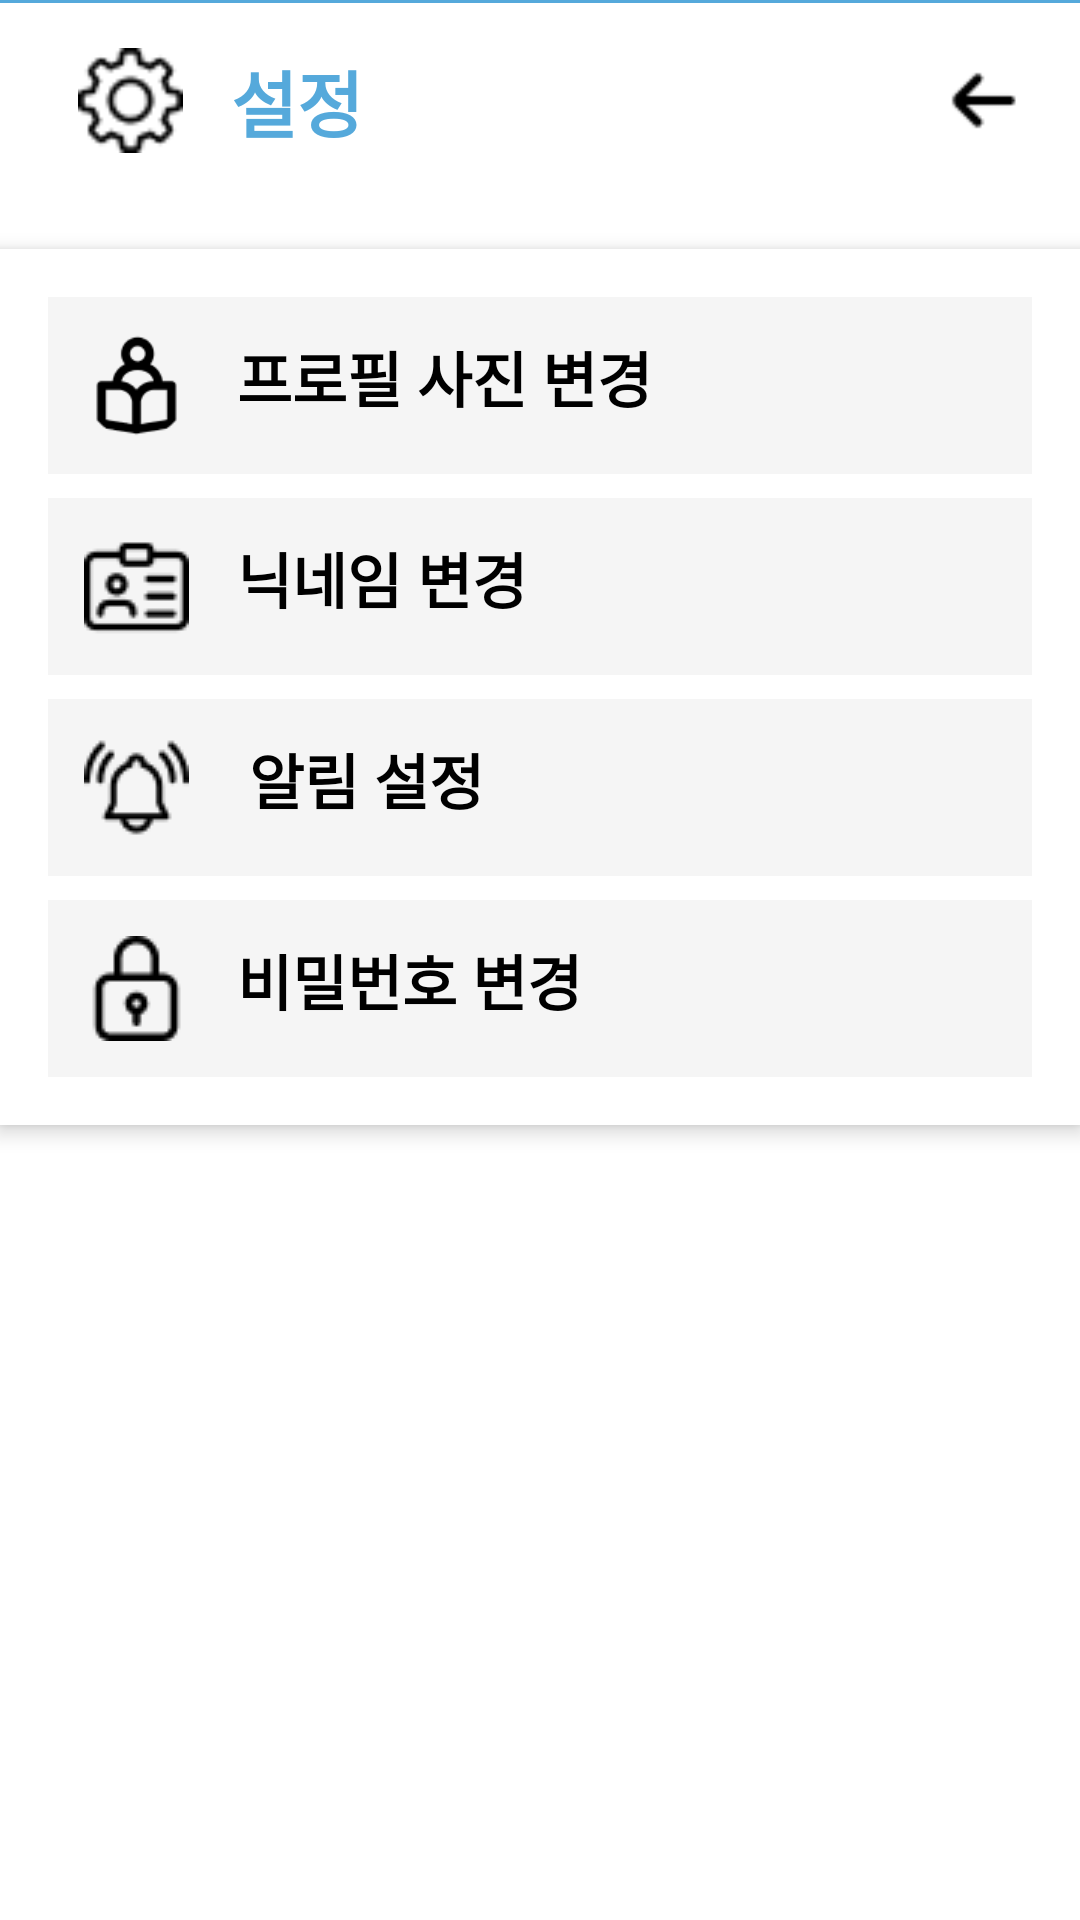

Icons on this 1080x1920 Android screen, each with its box as (x1,y1,x2,y2):
뒤로가기 버튼: (952,73,1016,128)
